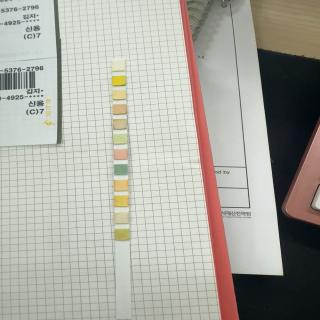mark: (114, 148, 128, 160), (115, 229, 130, 240), (115, 212, 128, 224), (114, 164, 128, 175), (112, 75, 125, 86), (114, 180, 128, 190), (112, 90, 126, 100), (115, 196, 128, 206), (114, 134, 126, 144), (114, 119, 126, 129), (112, 62, 125, 71), (114, 104, 125, 114)
